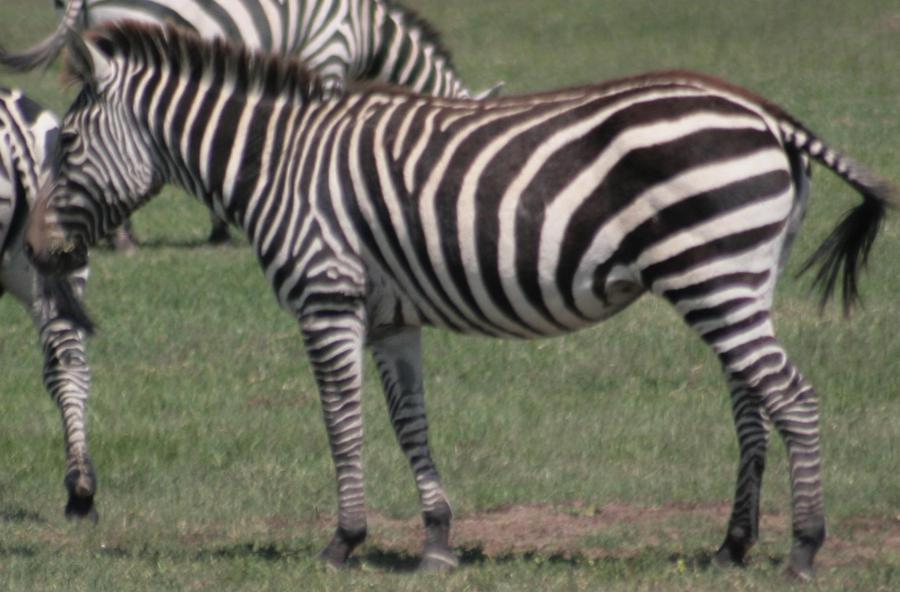zebra_plains: (232, 63, 810, 365)
